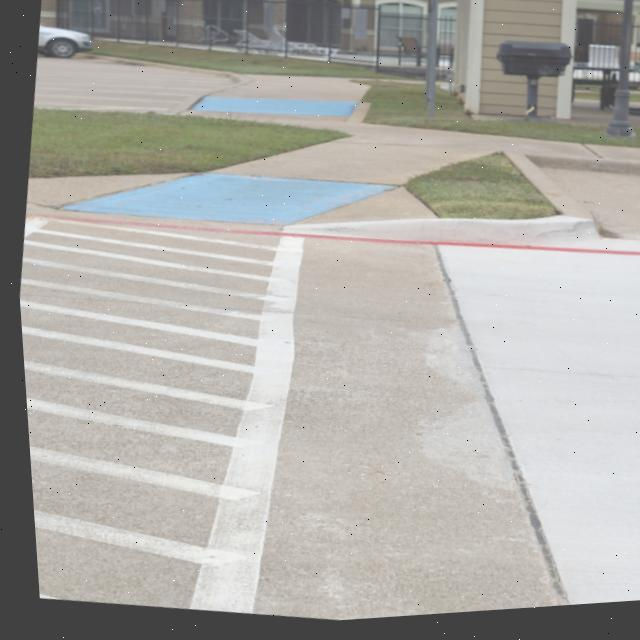Automobile: (37, 26, 92, 59)
Road: (16, 156, 640, 624), (32, 55, 229, 115)
Sidewalk: (24, 79, 640, 230)
